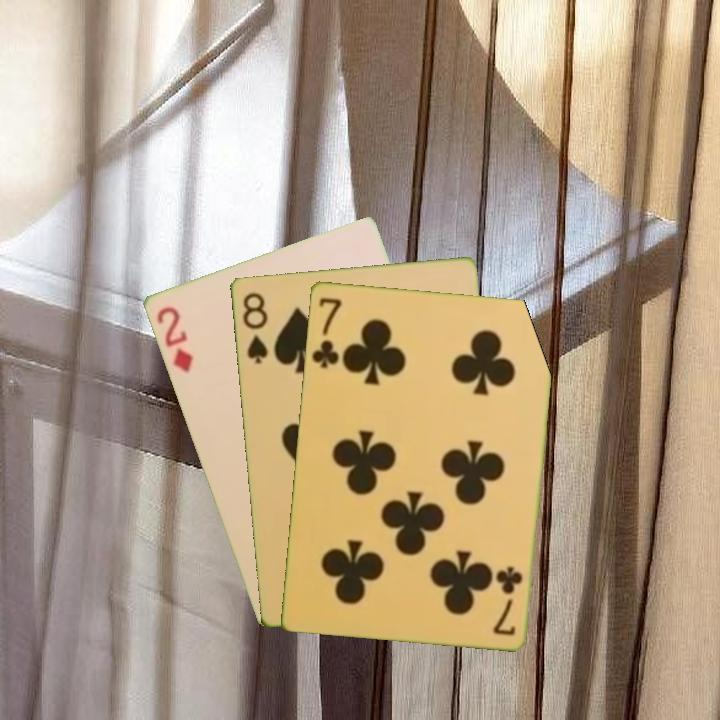2d: (152, 302, 196, 375)
7c: (307, 294, 344, 371), (489, 562, 525, 638)
8s: (238, 288, 270, 366)
